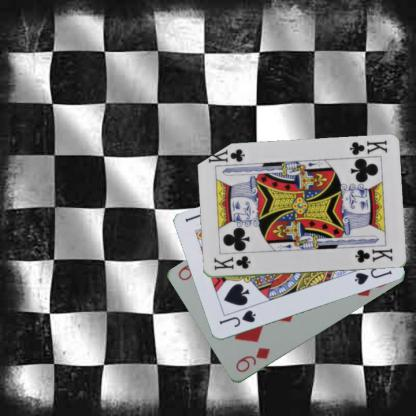9d: (233, 345, 271, 374)
Js: (216, 308, 257, 329)
Kc: (347, 138, 388, 157), (211, 253, 251, 272)
